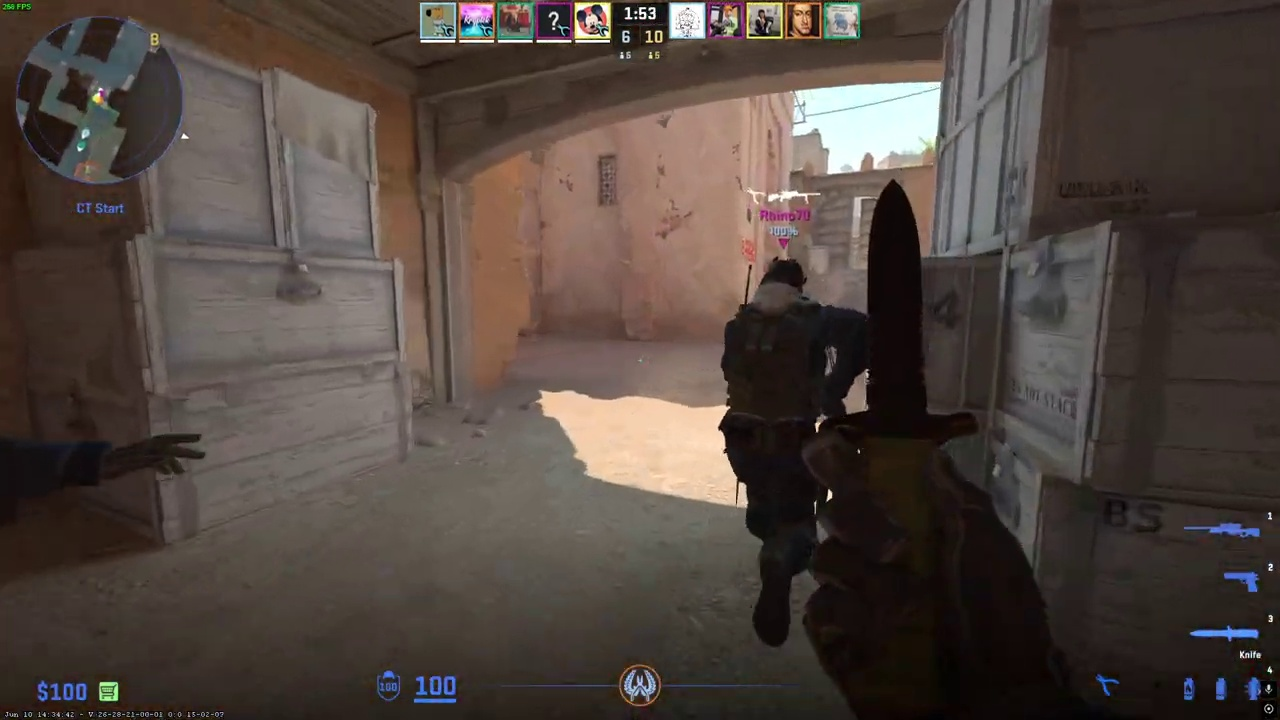CT: (710, 256, 893, 650)
